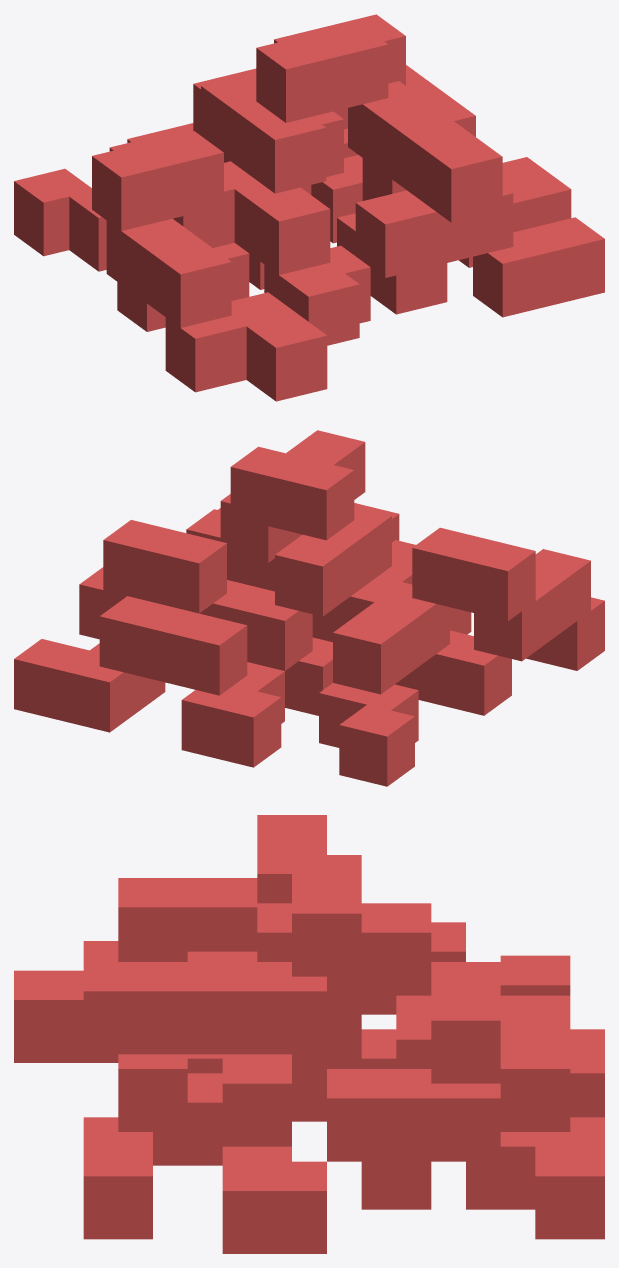
File: All-4-Doroga_Zaval.obj
3 renders of one model, top to bottom at view 1: azimuth 30°, elevation 25°; view 2: azimuth 150°, elevation 25°; view 3: azimuth 270°, elevation 25°, orthographic. The views are drawn at different scales.
Visible parts, largest first — view 1: Doroga_Zaval; view 2: Doroga_Zaval; view 3: Doroga_Zaval.
Part boxes in pixels (x1,y1,x2,y2): Doroga_Zaval: (14, 14, 604, 401); Doroga_Zaval: (14, 430, 604, 786); Doroga_Zaval: (14, 815, 604, 1253).
Bounding box in the file's own units: 1.7 × 0.8 × 1.7.
1 material, 1 textured.
